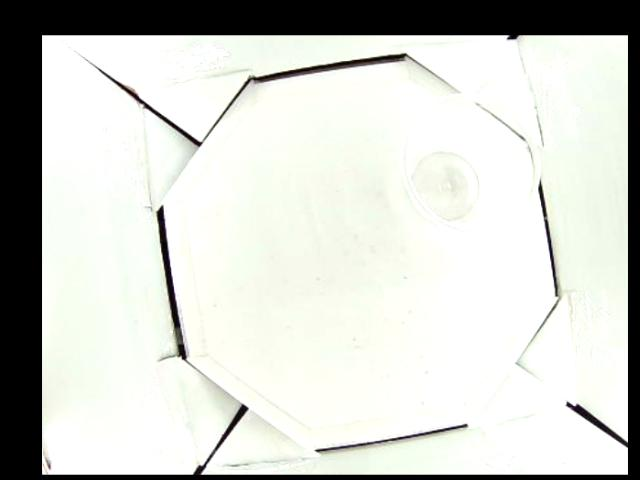Cup: (398, 91, 540, 235)
